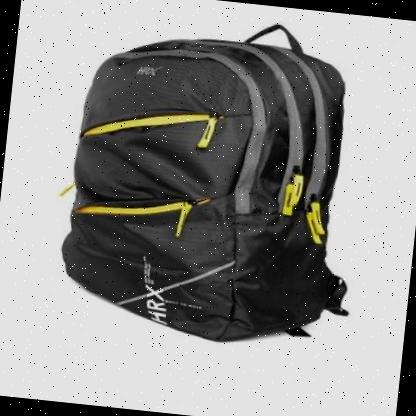bag: (51, 13, 384, 362)
